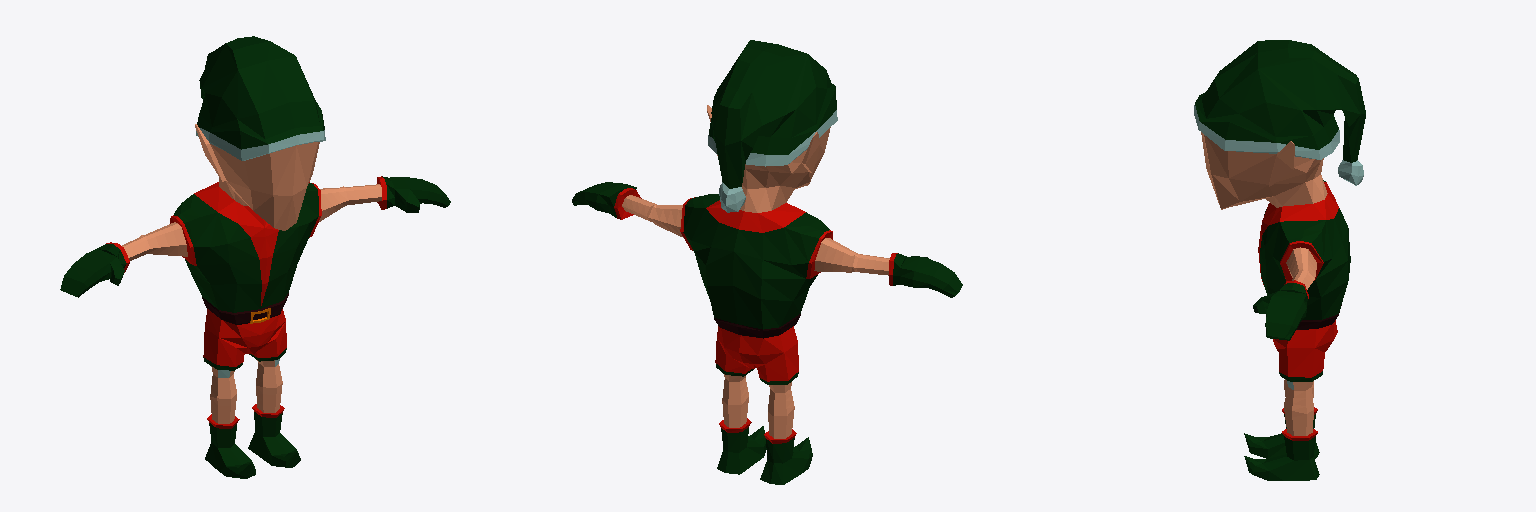
The model's file is char_ELF_2.obj.
3 views of the same model, side by side, from view 1: azimuth 30°, elevation 25°; view 2: azimuth 150°, elevation 25°; view 3: azimuth 270°, elevation 25° (orthographic).
Parts seen in each view (by area): view 1: Cube; view 2: Cube; view 3: Cube.
Part boxes in pixels (bbox=[...]): Cube: bbox=[60, 36, 450, 478]; Cube: bbox=[572, 40, 962, 484]; Cube: bbox=[1194, 40, 1365, 480].
Size of the model in its own units: 2.88 by 2.96 by 1.11.